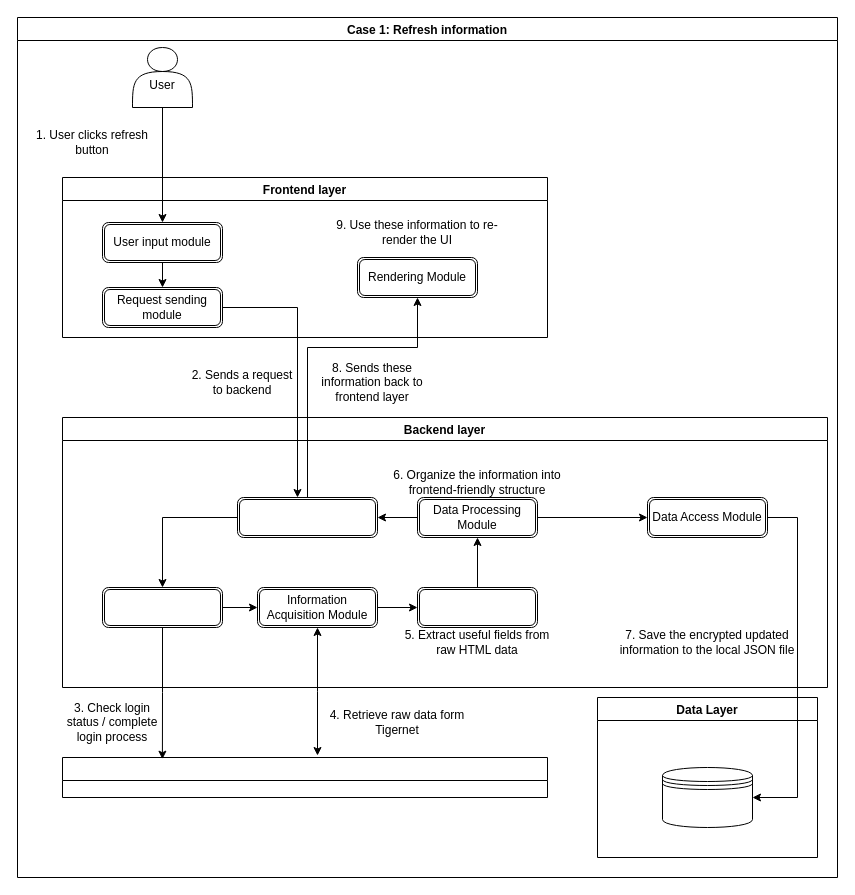
Image size: 855x895. Some labels were removed from this diagram. Here are the shapes that lost their labels. From the top down, the centre of each, then its label:
At (x=307, y=517): "Application Controller".
At (x=162, y=607): "Authentication Module".
At (x=477, y=607): "Parser Module".
At (x=305, y=777): "Tigernet".
At (x=707, y=797): "Academic information file".
